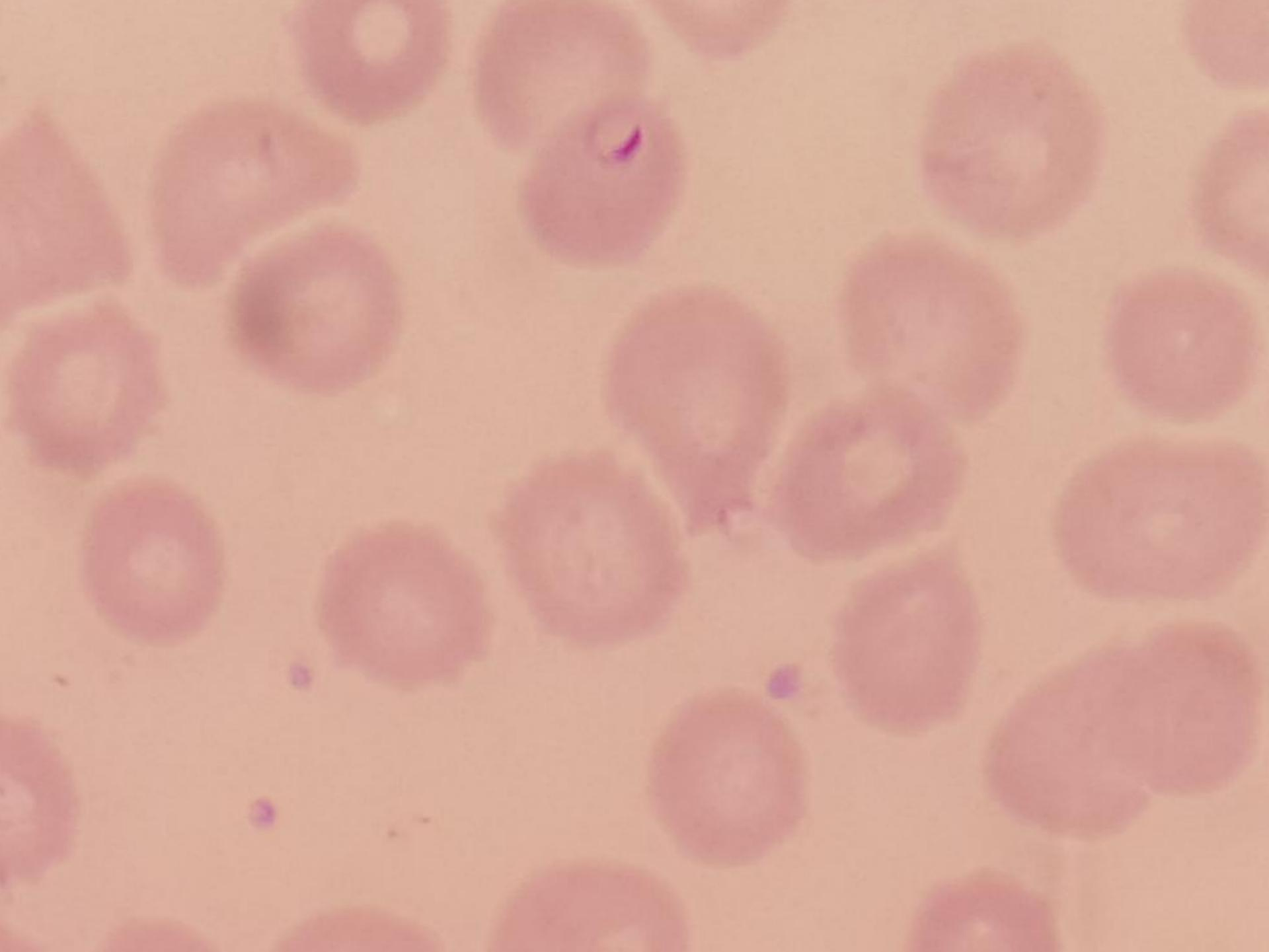Infected: (519, 88, 689, 267)
Uninfected: (147, 94, 360, 295), (608, 286, 781, 528), (499, 450, 685, 644), (983, 648, 1176, 833), (922, 48, 1102, 240), (775, 387, 966, 563), (1058, 443, 1269, 600), (843, 241, 1024, 413), (221, 217, 397, 393), (316, 521, 489, 691), (1102, 623, 1268, 795), (5, 299, 160, 479), (653, 691, 812, 866), (833, 554, 976, 738), (476, 0, 640, 146), (84, 481, 225, 641), (1110, 273, 1253, 423), (294, 0, 449, 123), (496, 858, 682, 952)
